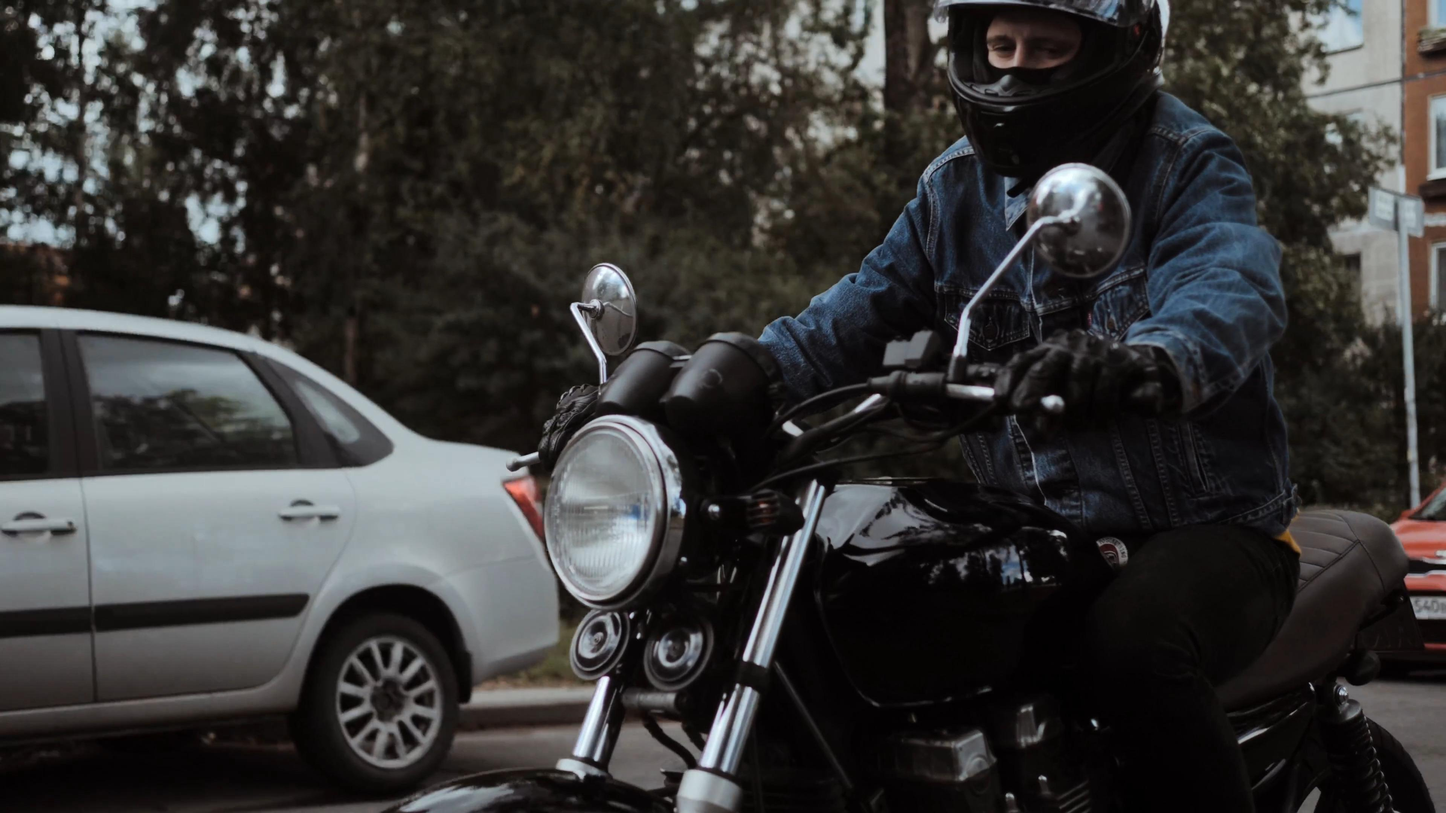driver: (379, 0, 1434, 813)
helmet: (933, 0, 1170, 198)
